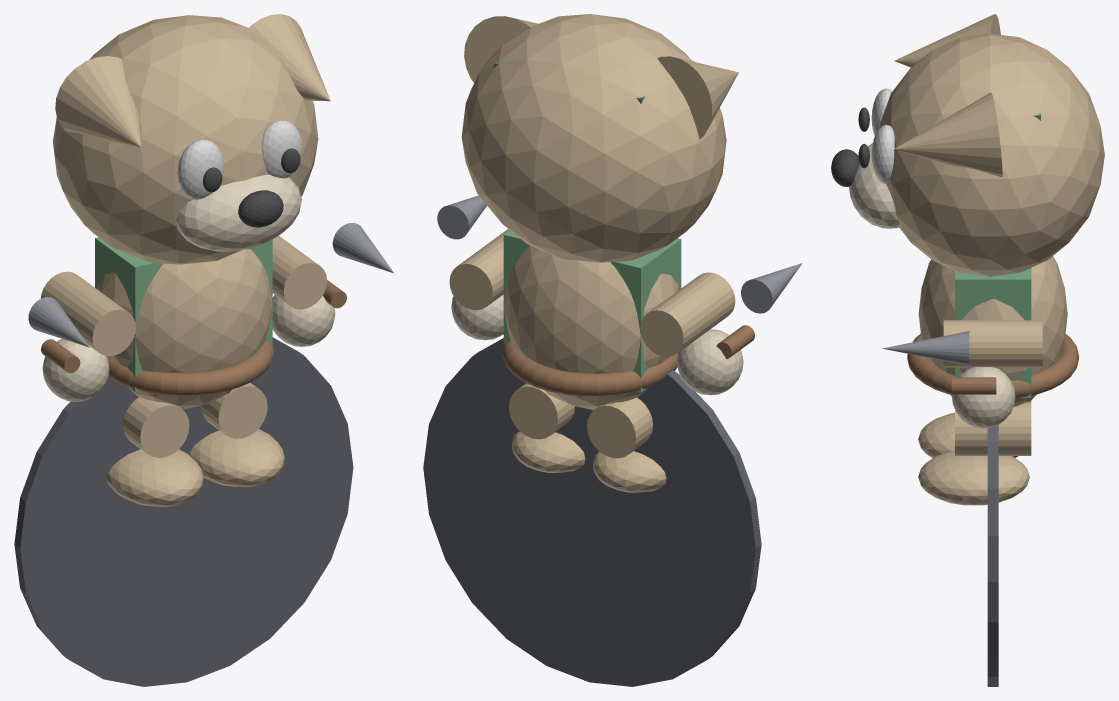
Rendered from Wind_Prototype_V1.glb.
3 views of the same model, side by side, from view 1: azimuth 30°, elevation 25°; view 2: azimuth 150°, elevation 25°; view 3: azimuth 270°, elevation 25° (orthographic). The views are drawn at different scales.
Parts seen in each view (by area): view 1: Base, Head, Body, Muzzle, Ear_-1, Foot_-1, Arm_-1, Foot_1, Belt, Armor, Ear_1, Leg_-1 (+10 smaller); view 2: Base, Head, Body, Arm_-1, Belt, Armor, Ear_-1, Leg_-1, Hand_-1, Arm_1, Leg_1, Foot_-1 (+6 smaller); view 3: Head, Body, Ear_1, Foot_1, Arm_1, Base, Armor, Belt, Leg_1, Hand_1, Muzzle, DaggerBlade_1 (+6 smaller).
Boxes of the visible parts, <box> form: Base: <box>14,337,353,686</box>; Head: <box>53,15,318,264</box>; Body: <box>97,249,272,409</box>; Muzzle: <box>176,174,301,251</box>; Ear_-1: <box>55,56,141,147</box>; Foot_-1: <box>106,449,203,506</box>; Arm_-1: <box>41,271,135,356</box>; Foot_1: <box>189,429,284,486</box>; Belt: <box>107,341,273,395</box>; Armor: <box>95,237,272,391</box>; Ear_1: <box>249,14,330,101</box>; Leg_-1: <box>123,397,189,457</box>; Base: <box>423,338,761,686</box>; Head: <box>461,14,726,262</box>; Body: <box>504,246,678,410</box>; Arm_-1: <box>640,272,735,356</box>; Belt: <box>502,341,677,396</box>; Armor: <box>503,230,681,392</box>; Ear_-1: <box>657,56,738,139</box>; Leg_-1: <box>587,398,652,458</box>; Hand_-1: <box>677,329,743,395</box>; Arm_1: <box>449,229,509,310</box>; Leg_1: <box>509,383,574,439</box>; Foot_-1: <box>592,451,666,492</box>; Head: <box>879,33,1104,276</box>; Body: <box>918,256,1067,406</box>; Ear_1: <box>894,92,1002,177</box>; Foot_1: <box>918,450,1029,505</box>; Arm_1: <box>943,320,1042,367</box>; Base: <box>987,425,998,686</box>; Armor: <box>955,268,1031,397</box>; Belt: <box>907,333,1079,398</box>; Leg_1: <box>955,402,1031,455</box>; Hand_1: <box>951,367,1015,428</box>; Muzzle: <box>849,143,899,228</box>; DaggerBlade_1: <box>882,331,969,365</box>.
Bounding box in the file's own units: 2.32 × 4.32 × 1.72.
